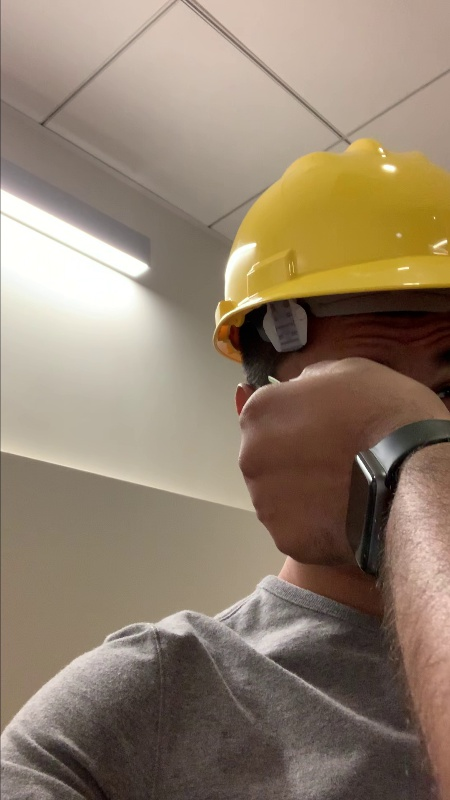helmet: (209, 133, 448, 336)
